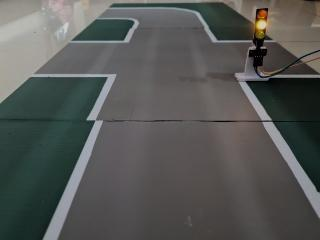yellow: (243, 1, 278, 50)
